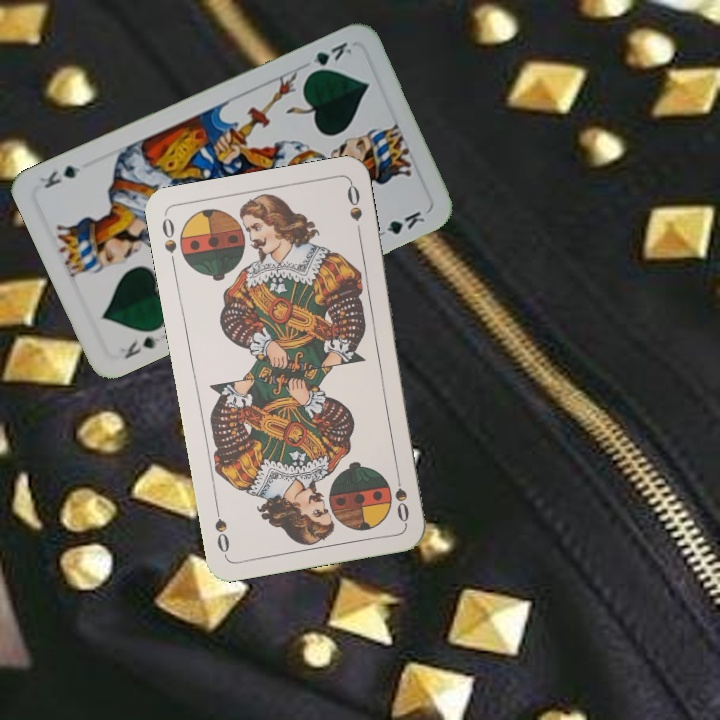GK: (303, 38, 355, 78), (116, 329, 169, 362)
SO: (390, 466, 412, 525), (158, 214, 179, 271)
